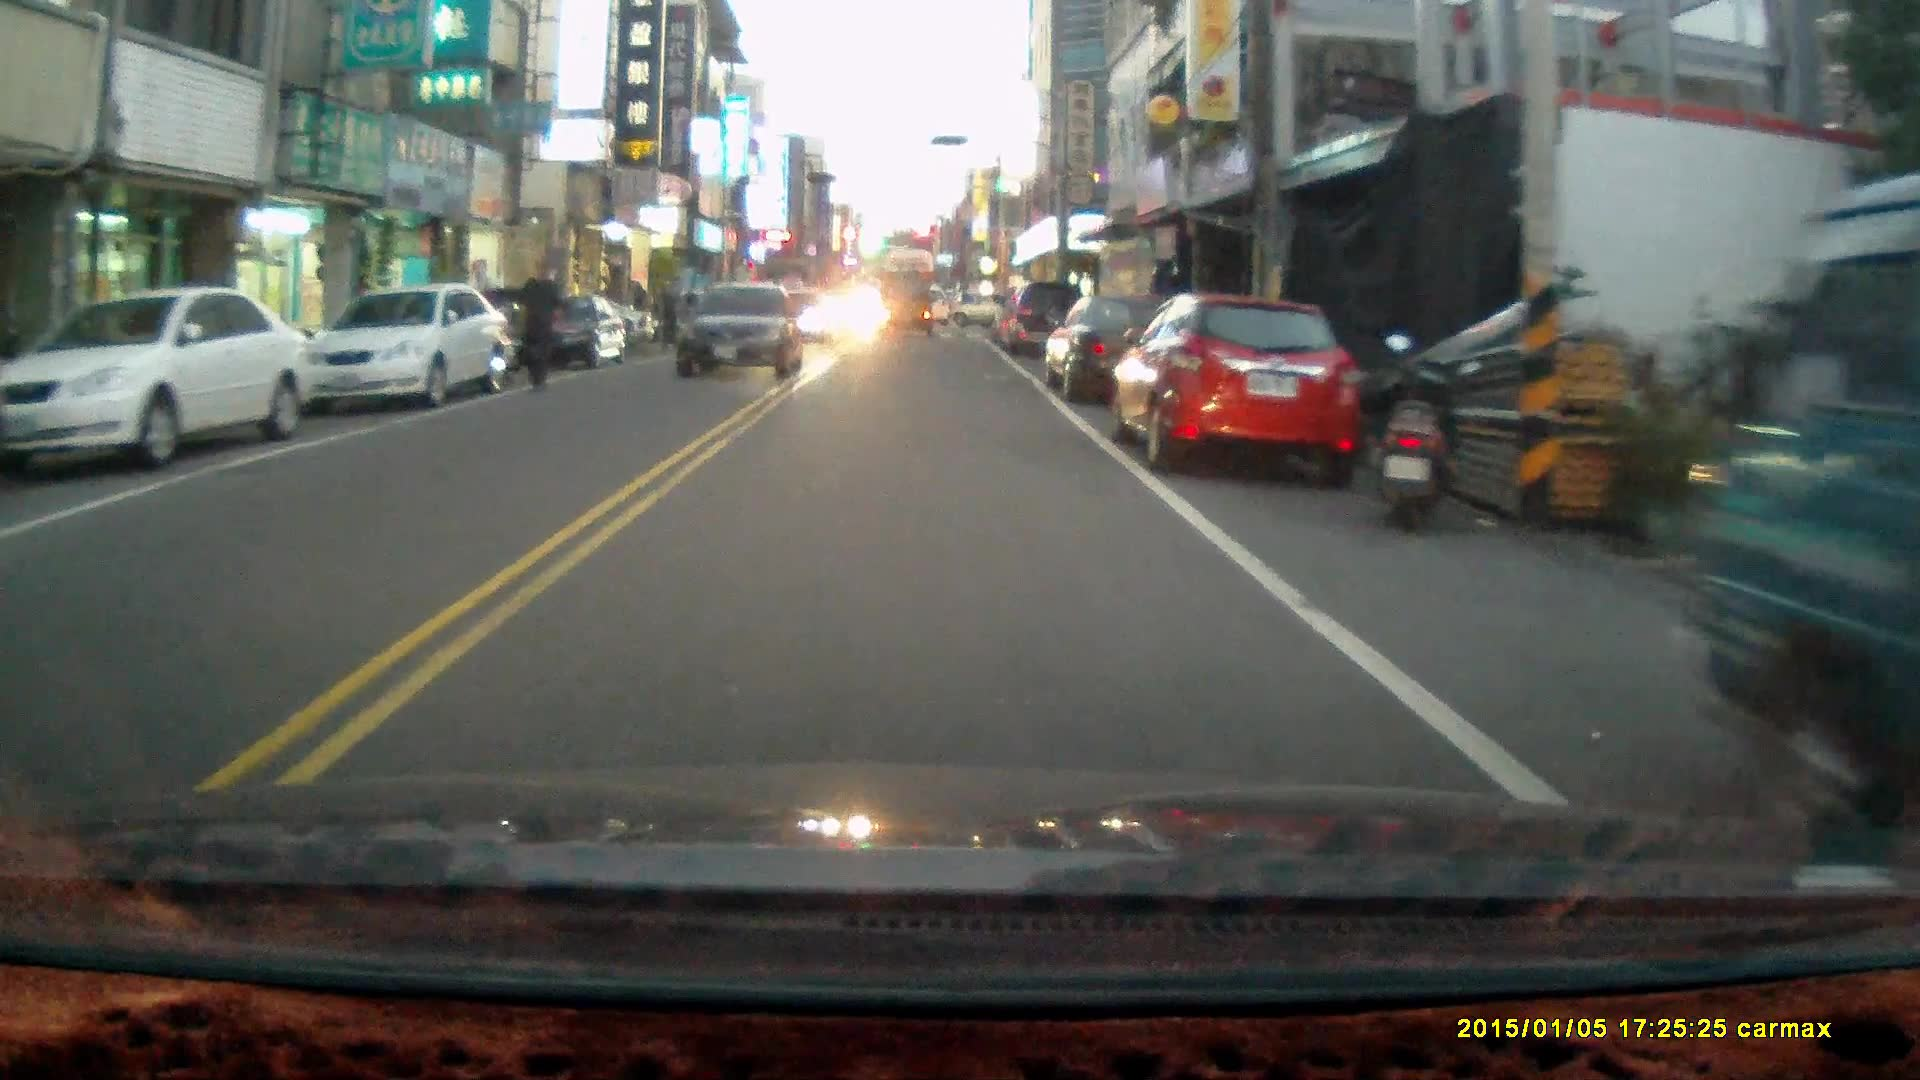pedestrian: (511, 259, 561, 394), (654, 278, 681, 352)
vehicle: (3, 287, 311, 470), (1115, 301, 1367, 490), (308, 291, 515, 418), (1038, 297, 1219, 407), (671, 280, 809, 386), (990, 280, 1096, 362), (522, 294, 626, 377), (874, 269, 937, 337)
